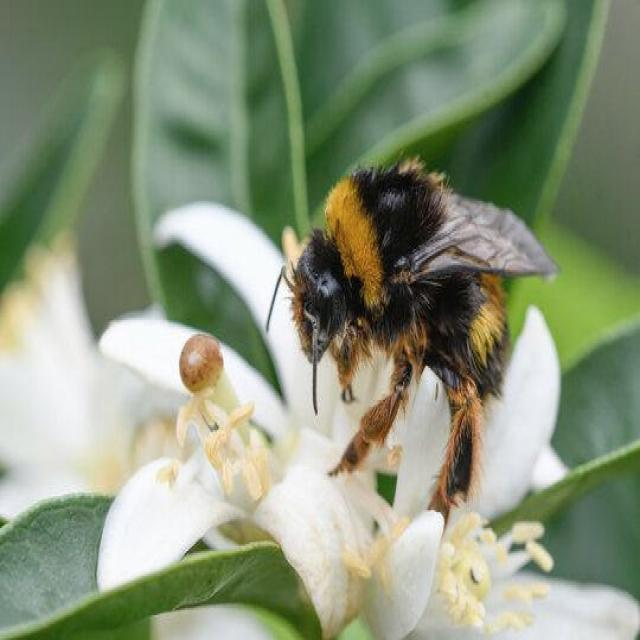Bunga: (98, 194, 338, 570), (378, 350, 610, 640)
